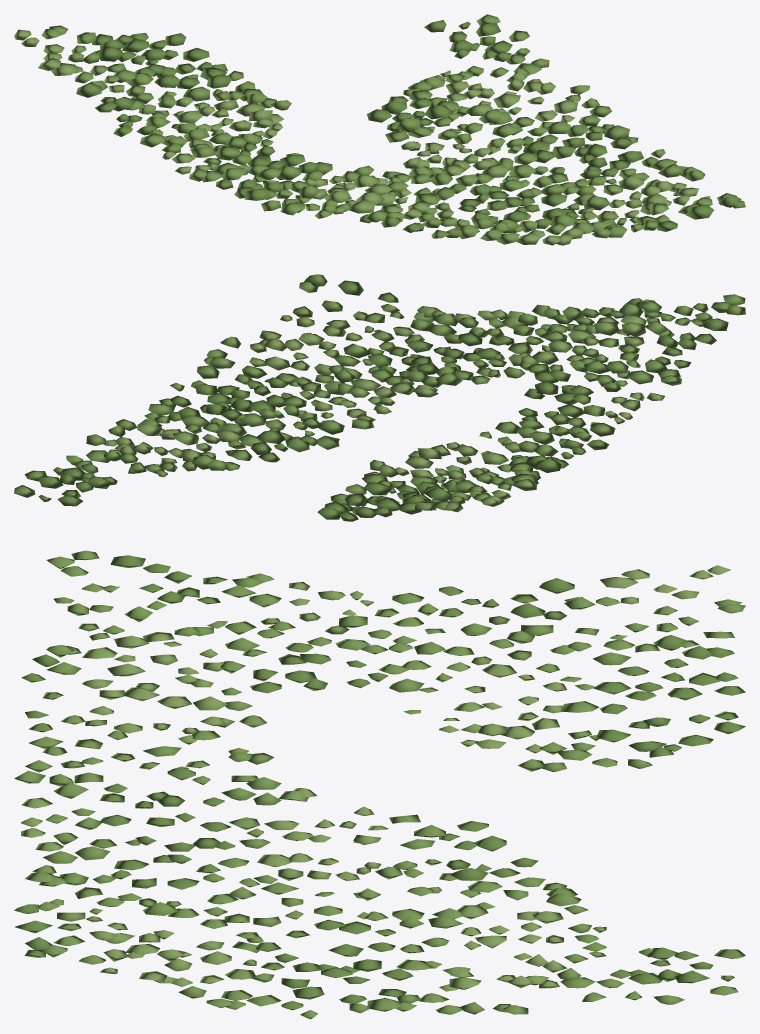
Rendered from canopy-1--1--2.glb.
3 renders of one model, top to bottom at view 1: azimuth 30°, elevation 25°; view 2: azimuth 150°, elevation 25°; view 3: azimuth 270°, elevation 25°, orthographic. The views are drawn at different scales.
Bounding box in the file's own units: 518 × 135 × 512.
Materials: 1 (1 with a texture image).
